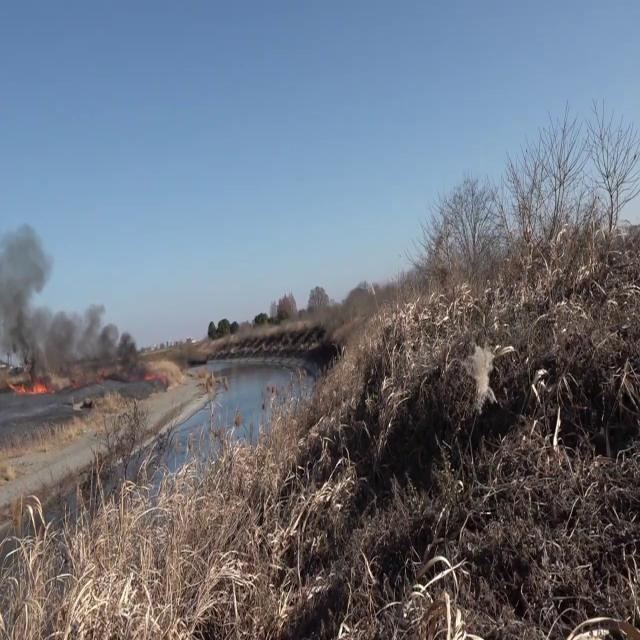Smoke: (0, 210, 140, 383)
